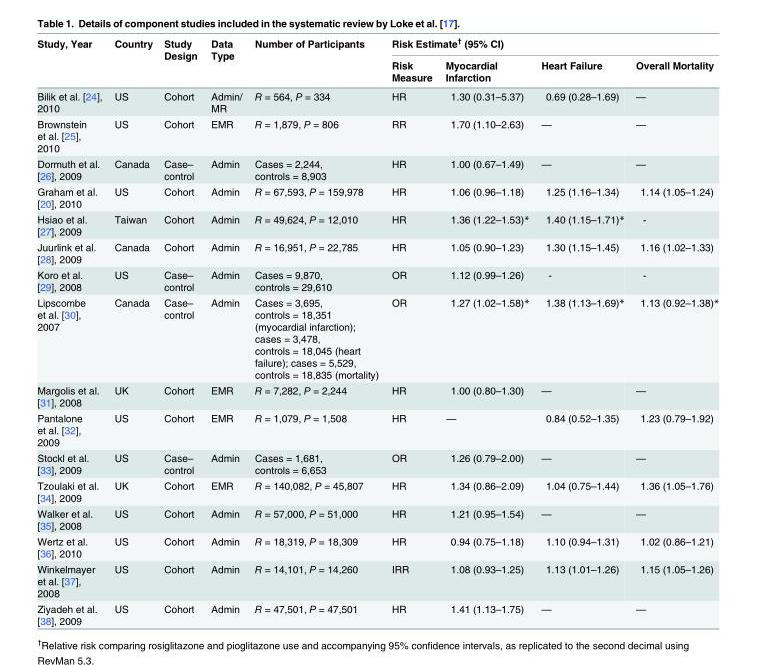table: (36, 37, 718, 626)
table column: (247, 37, 384, 626), (438, 37, 534, 626), (534, 37, 629, 626), (629, 37, 718, 626), (36, 37, 107, 626), (384, 37, 438, 626), (107, 37, 157, 626), (157, 37, 203, 626), (203, 37, 247, 626)
table column header: (36, 37, 718, 86)
table row: (36, 294, 718, 381), (36, 115, 718, 155), (36, 409, 718, 449), (36, 560, 718, 600), (36, 53, 718, 86), (36, 86, 718, 115), (36, 155, 718, 183), (36, 210, 718, 238), (36, 238, 718, 266), (36, 266, 718, 294), (36, 381, 718, 409), (36, 449, 718, 477), (36, 477, 718, 505), (36, 532, 718, 560), (36, 183, 718, 210), (36, 505, 718, 532), (36, 600, 718, 626), (36, 37, 718, 53)
table spanning cell: (247, 37, 384, 86), (384, 37, 718, 53), (36, 37, 107, 86), (107, 37, 157, 86), (157, 37, 203, 86), (203, 37, 247, 86)
